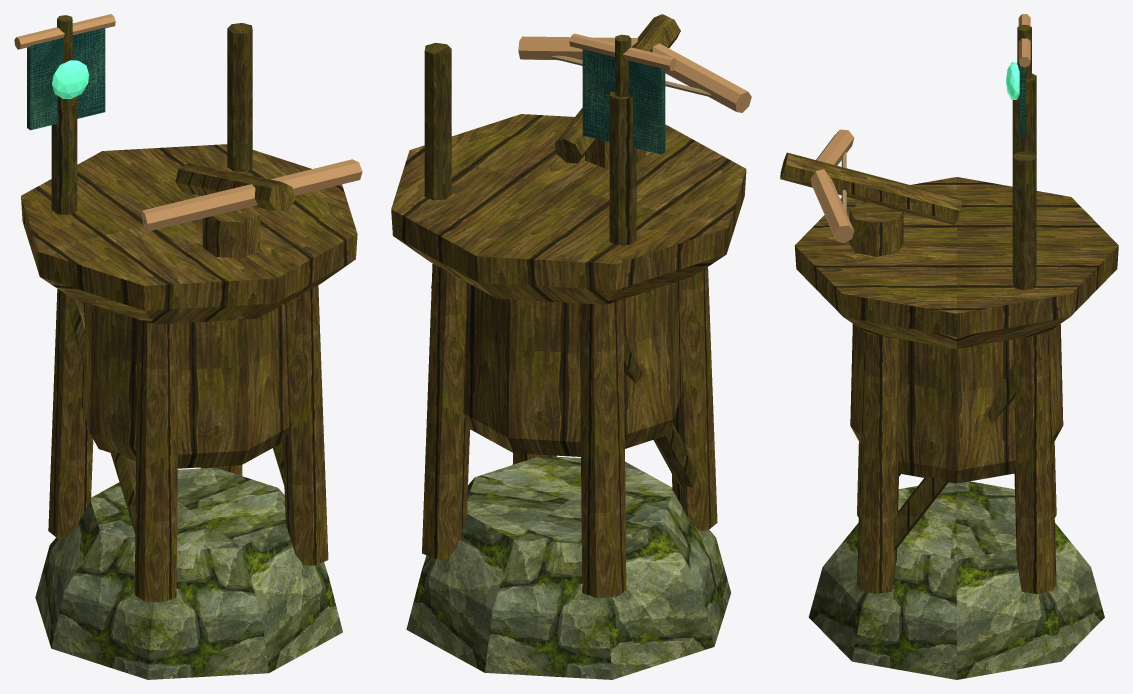
Rendered from 10-reed-tower.glb.
3 views of the same model, side by side, from view 1: azimuth 30°, elevation 25°; view 2: azimuth 150°, elevation 25°; view 3: azimuth 270°, elevation 25° (orthographic). The views are drawn at different scales.
Visible parts, largest first — view 1: 10-reed-tower; view 2: 10-reed-tower; view 3: 10-reed-tower.
Boxes of the visible parts, x1,y1,x2,y2 form: 10-reed-tower: [14, 14, 362, 679]; 10-reed-tower: [391, 14, 751, 679]; 10-reed-tower: [780, 14, 1118, 679].
Bounding box in the file's own units: 2.1 × 3.93 × 2.19.
Materials: 7 (4 with a texture image).
